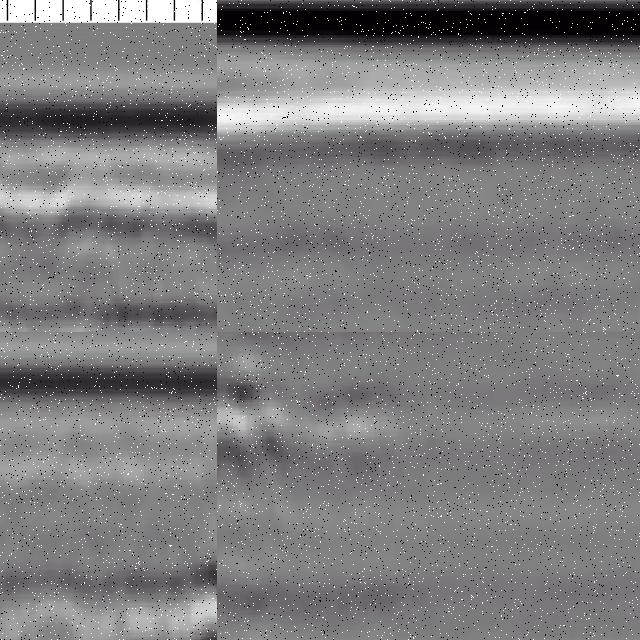loose: (218, 341, 408, 487), (183, 557, 218, 640)
